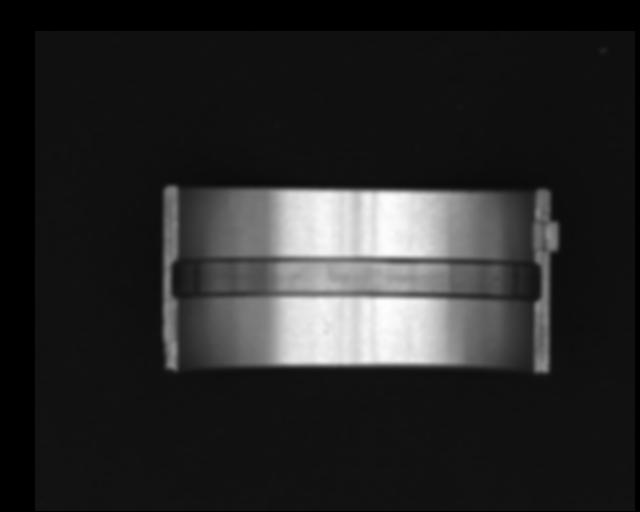gap: (169, 257, 545, 301)
